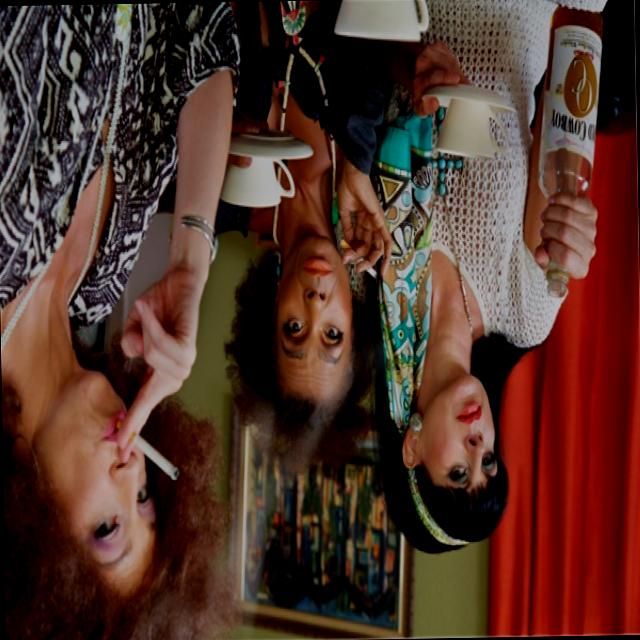smoke: (108, 416, 182, 486)
